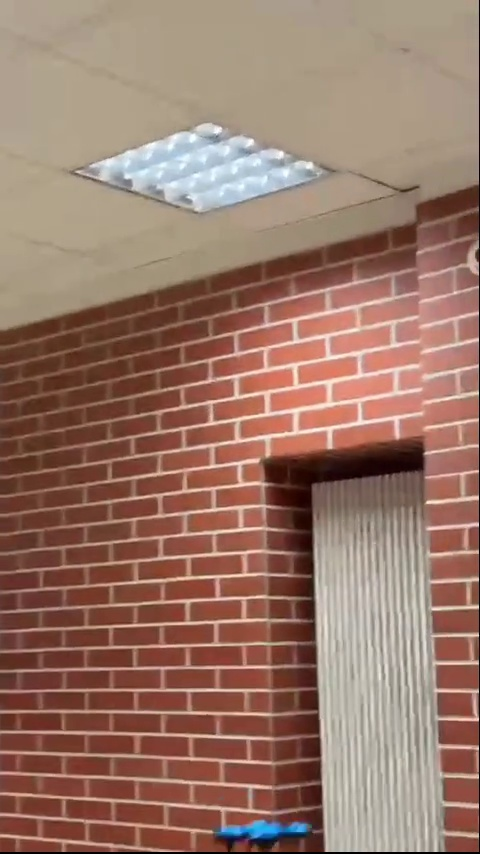drone: (215, 819, 308, 850)
